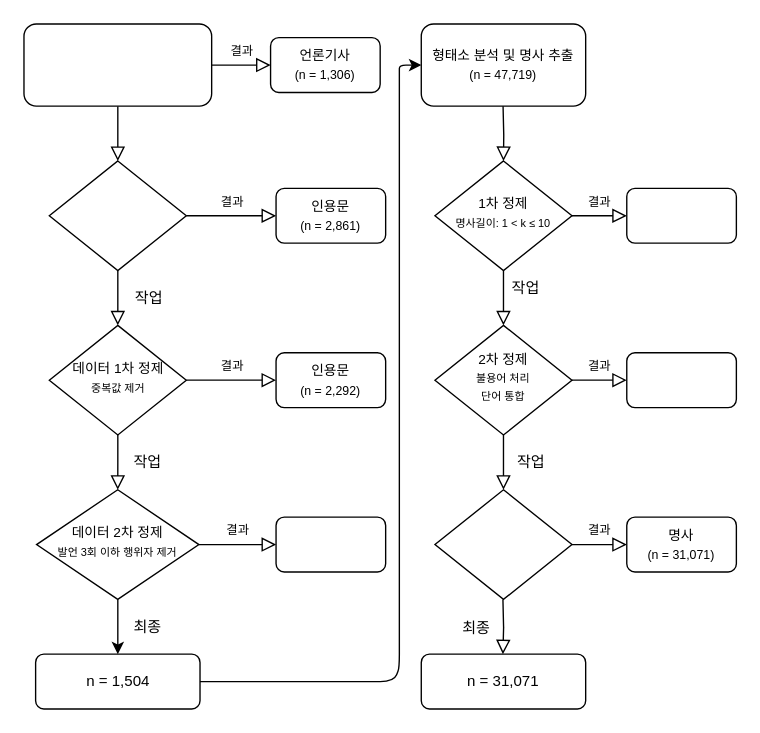
Image size: 760x733. Some labels were removed from this diagram. Here are the shapes that lost their labels. From the top down, the centre of each, then its label:
At point (117, 64): "언론기사 수집 조선일보, 한국일보, 경향신문 검색 키워드: 재난지원금, 재난기본소득".
At point (117, 215): "인용문 추출".
At point (680, 215): "명사 (n = 35,902)".
At point (680, 379): "명사 (n = 33,918)".
At point (330, 544): "인용문 (n = 1,504)".
At point (503, 543): "3차 정제 빈도수 2 ≤ k".
